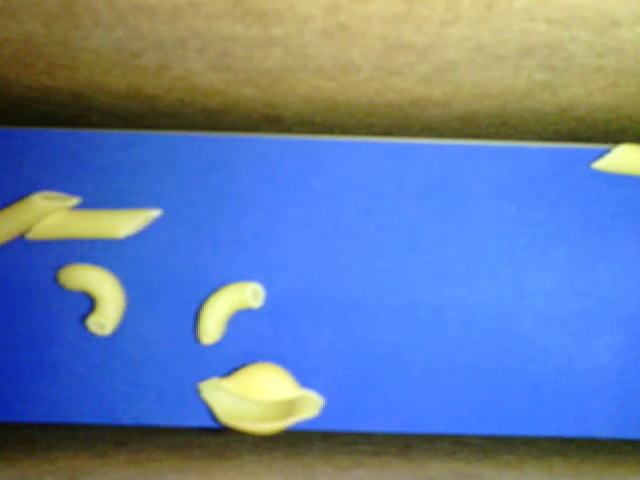elbow: (56, 261, 127, 337), (194, 281, 267, 345)
penne: (1, 189, 82, 248), (23, 207, 163, 240), (590, 141, 639, 175)
shell: (197, 360, 327, 437)
